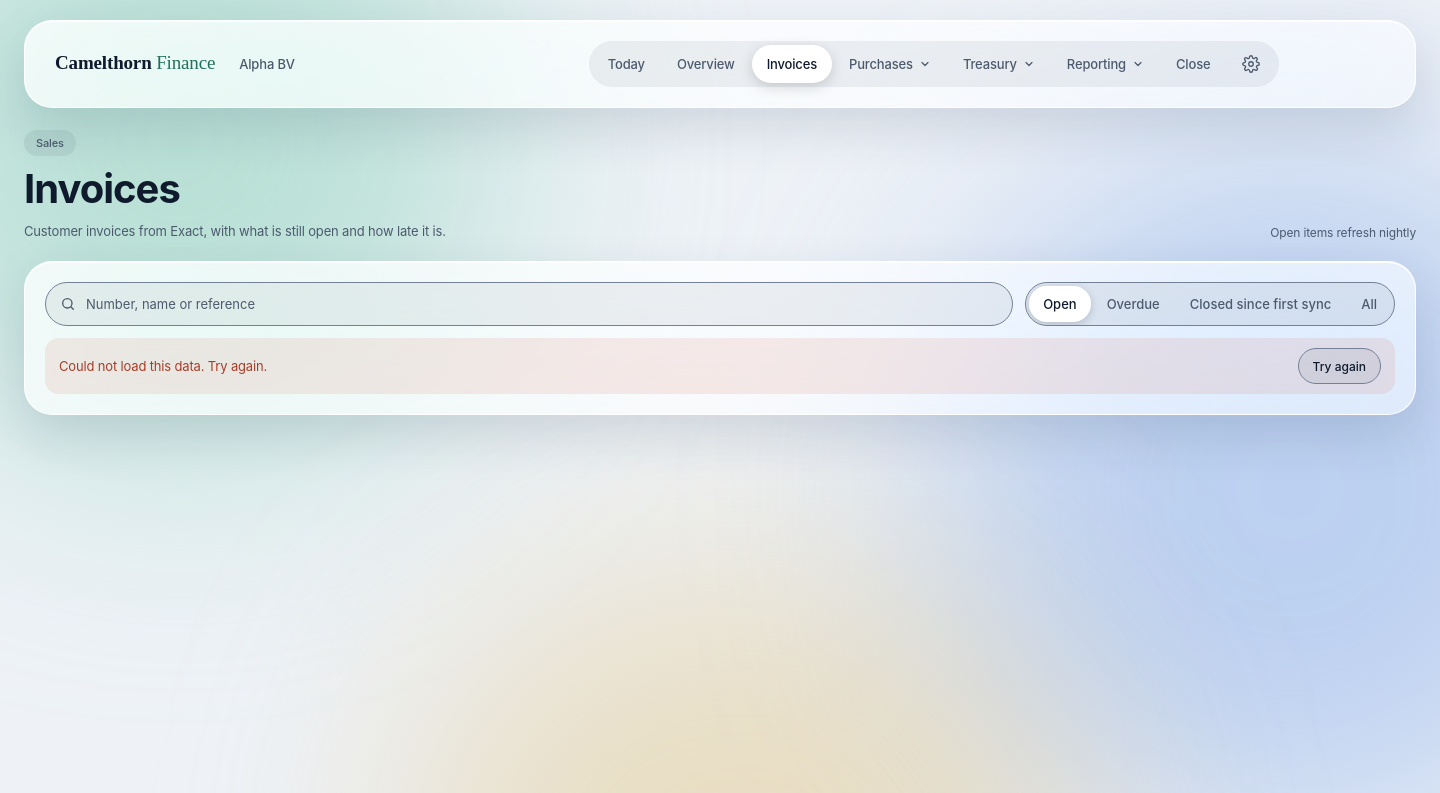
Test: Invoices list › shows an error with a retry
This screenshot has width=1440, height=793.
Check: the message shows "Could not load this data", box left=59, top=358, right=267, bottom=374
Click the button "Try again" at coordinates (1339, 366), box left=1298, top=348, right=1381, bottom=384
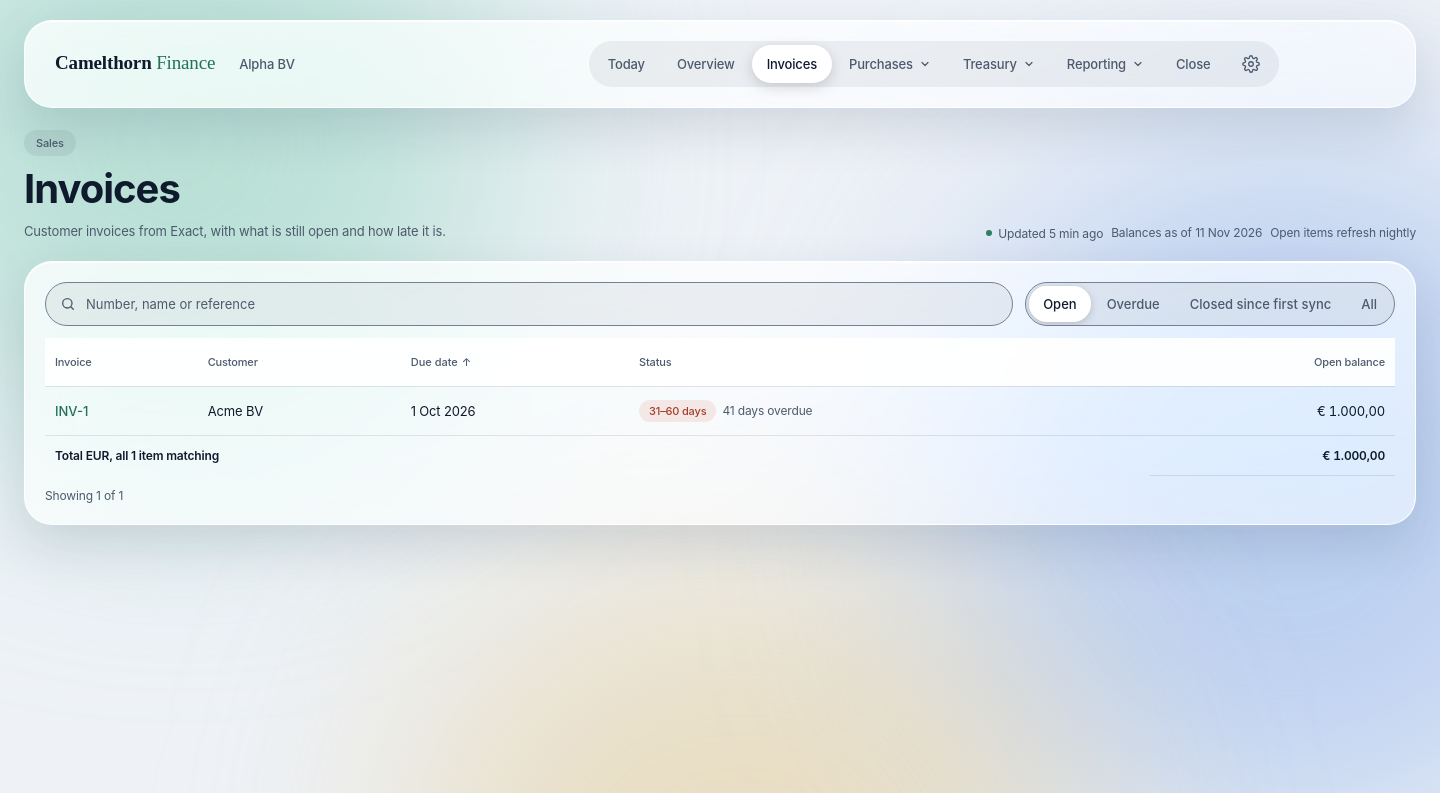
Check: the button "INV-1" is shown, box left=55, top=399, right=88, bottom=423
